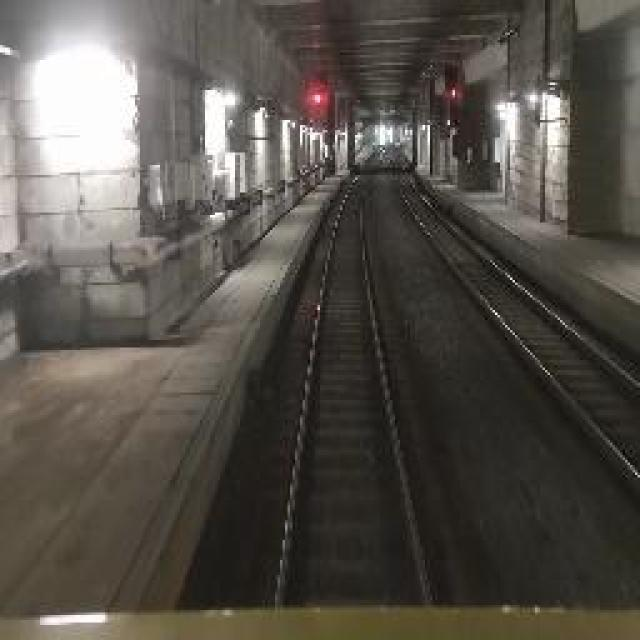rail: (247, 141, 463, 608)
